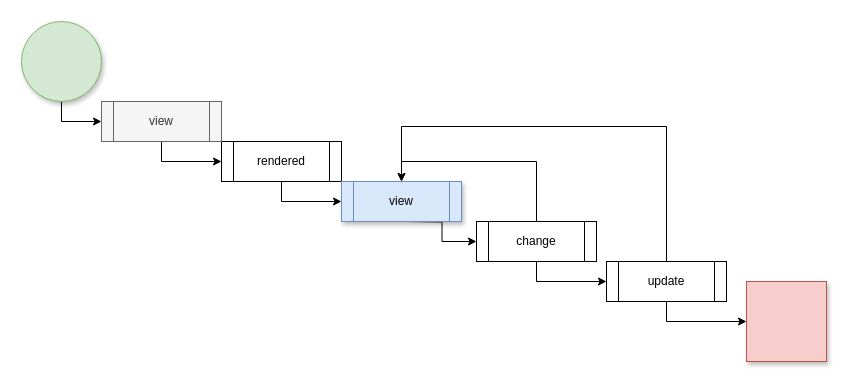
This 850x386 diagram has some shape labels left out. The centre of each missing label's shape, as x and y in pixels:
"created" goes at pixel 62 62.
"destroyed" goes at pixel 787 322.
